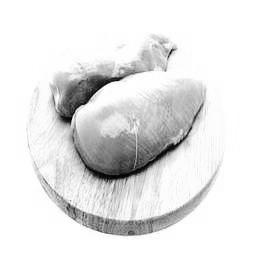bukan telur: (74, 70, 209, 176)
